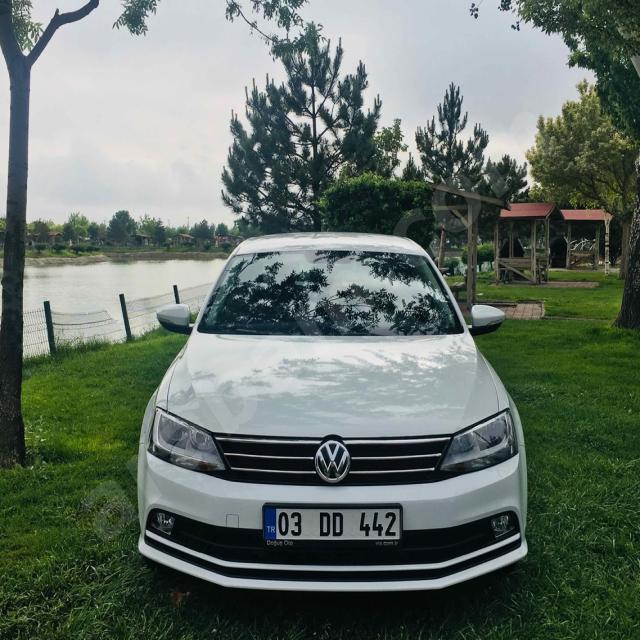license_plate: (263, 506, 402, 540)
